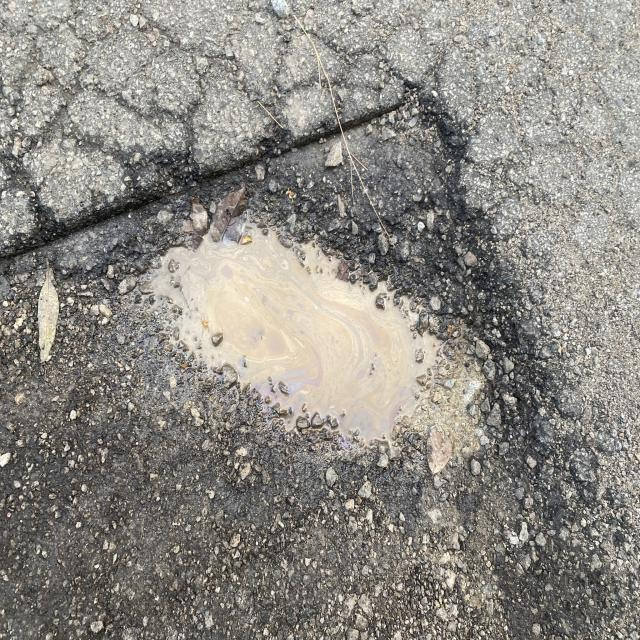Pothole: (22, 106, 497, 391)
